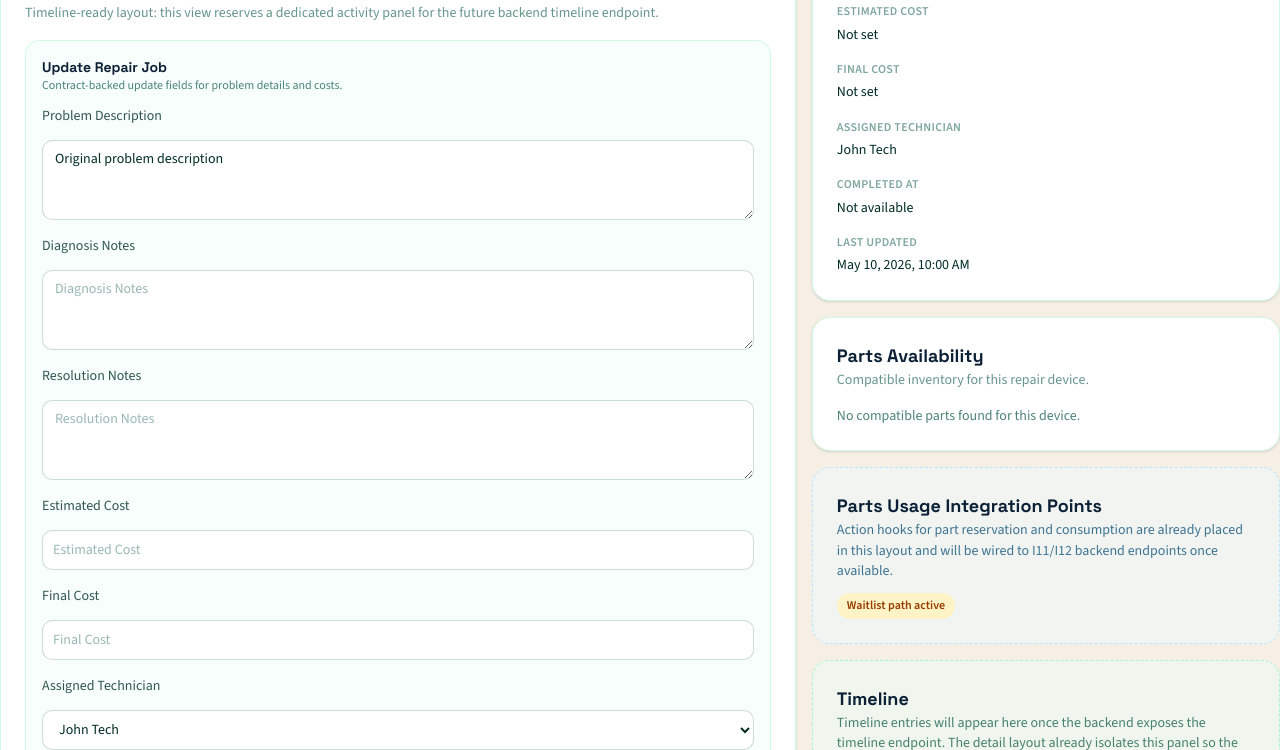
Test case: RepairJobDetail › renders assigned technician name in details card and allows assignment update in form
Check: the dropdown labelled "Assigned Technician" shows "John Tech", box [42,710,754,749]
Replace the text in the text box with placeholder "Problem Description" with "New problem description that is long enough": [398, 180] box [42,140,754,220]
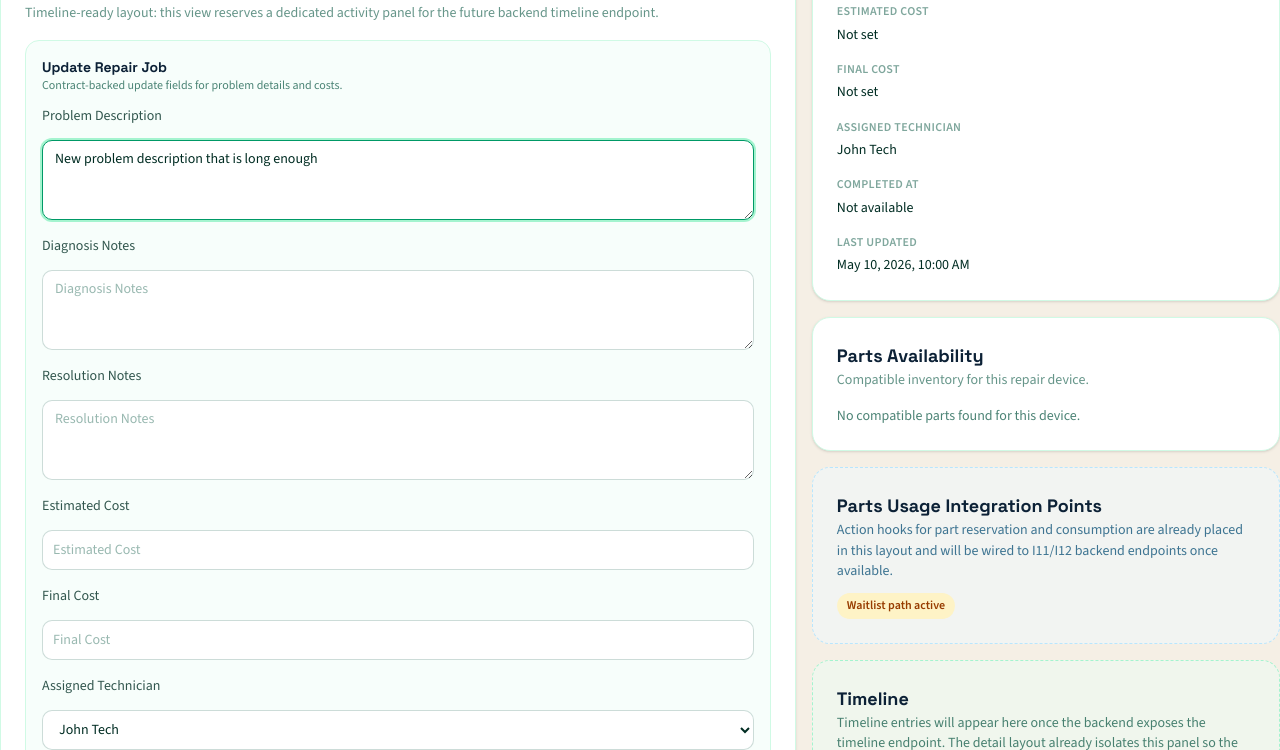
In the number field with placeholder "Estimated Cost": [398, 550] box [42,530,754,570], type "150"
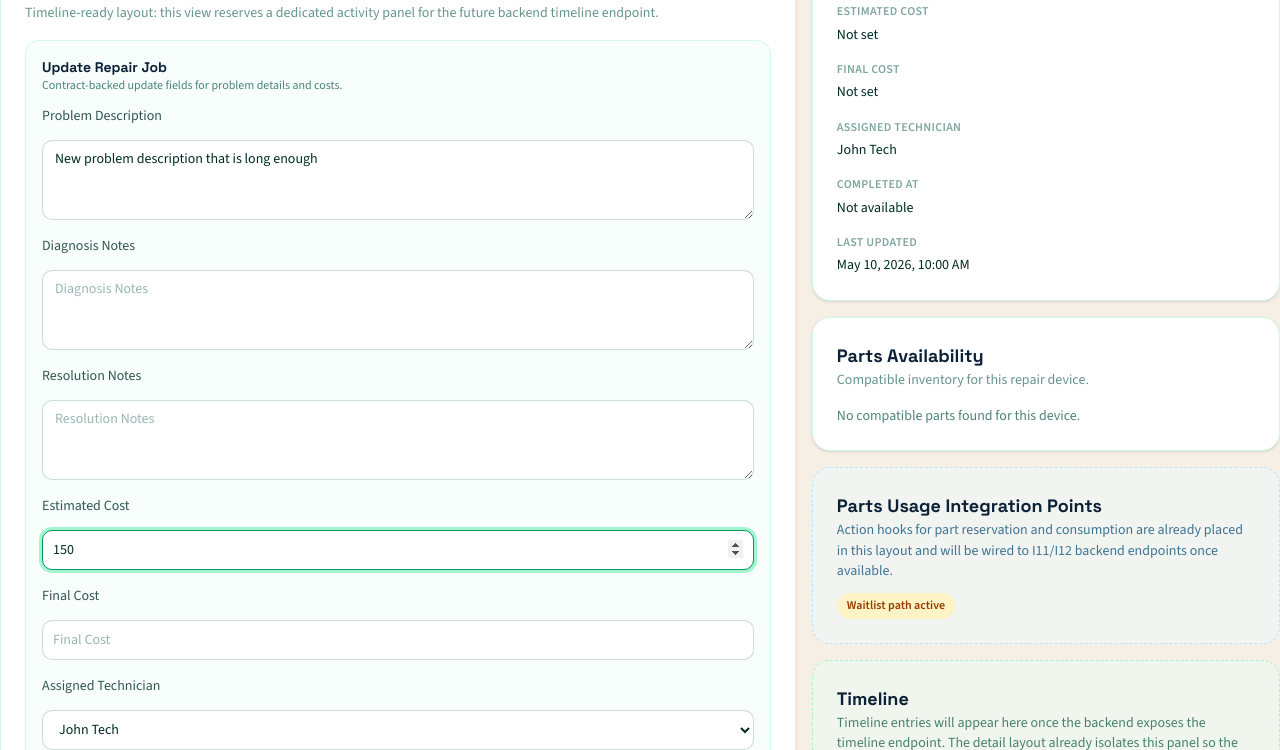
Note: Change assigned technician to Jane Tech
Select "Jane Tech" in the dropdown labelled "Assigned Technician": [398, 730] box [42,710,754,749]
(page scrolled)
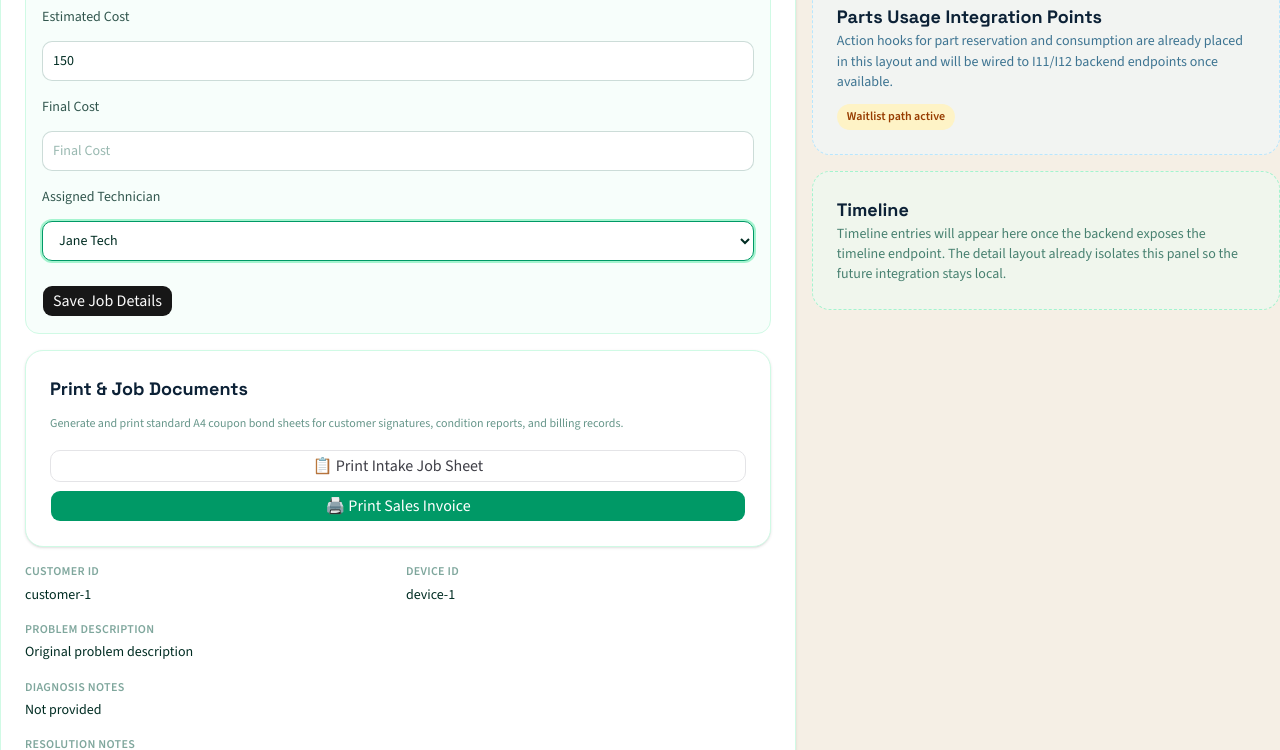
Click the button "Save Job Details": [108, 301] box [42,285,173,317]
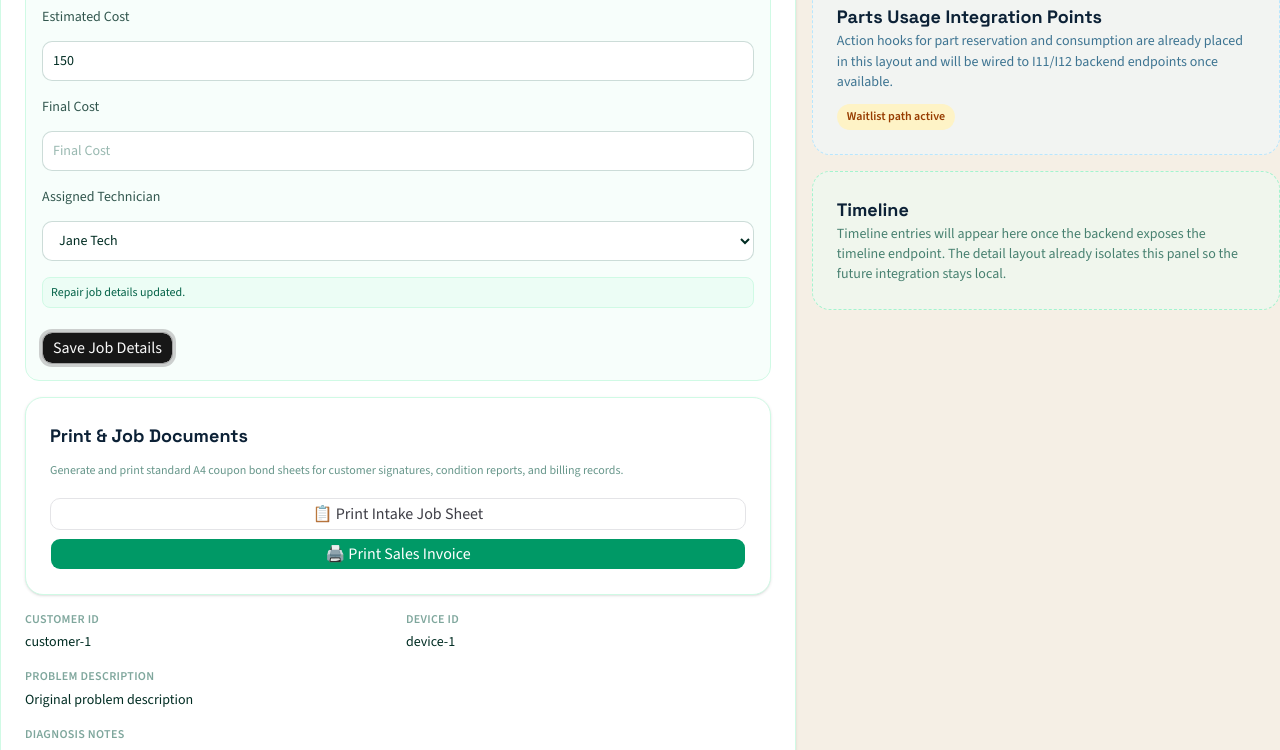
Check: the text "Repair job details updated." is shown, box [42,277,754,308]
